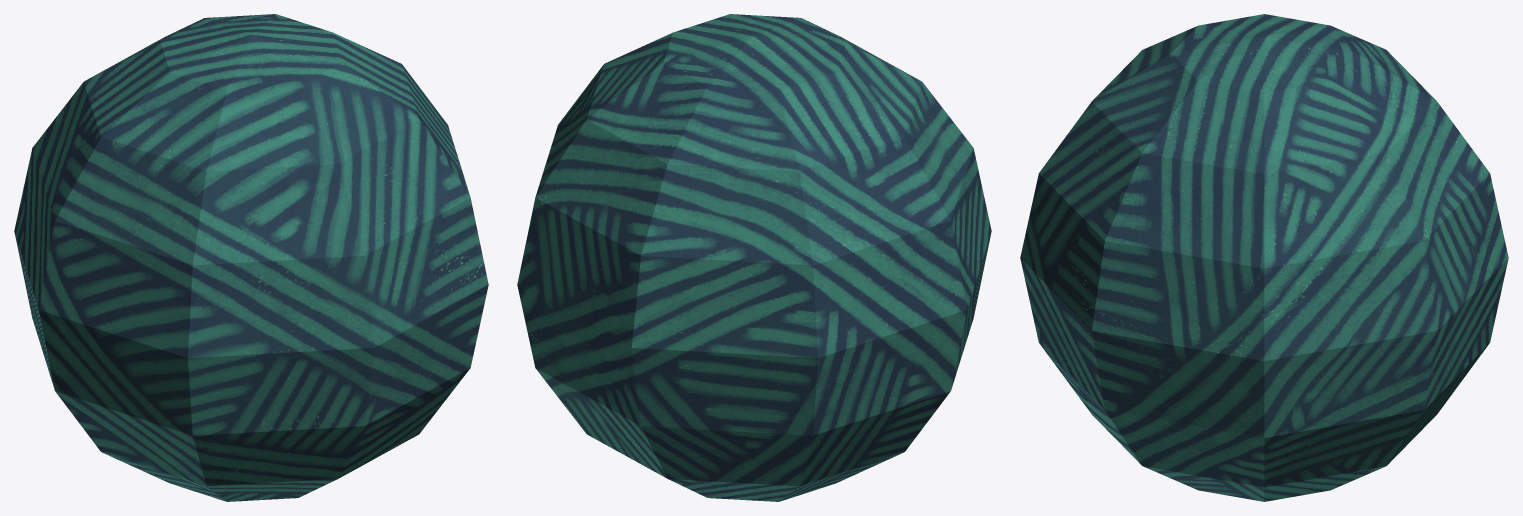
The model's file is Yarn.obj.
The picture shows the model from 3 angles, left to right: view 1: azimuth 30°, elevation 25°; view 2: azimuth 150°, elevation 25°; view 3: azimuth 270°, elevation 25°; orthographic projection.
Parts seen in each view (by area): view 1: UV_Sphere_UV_Sphere; view 2: UV_Sphere_UV_Sphere; view 3: UV_Sphere_UV_Sphere.
Boxes of the visible parts, left/top/right/bottom form: UV_Sphere_UV_Sphere: left=14, top=14, right=488, bottom=501; UV_Sphere_UV_Sphere: left=517, top=14, right=991, bottom=501; UV_Sphere_UV_Sphere: left=1020, top=14, right=1508, bottom=501.
Size of the model in its own units: 1 by 1 by 1.
1 material, 1 textured.
